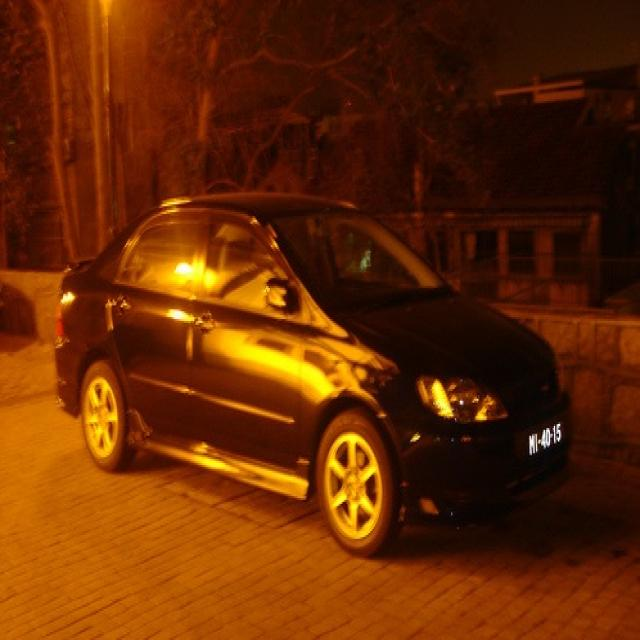Car: (53, 196, 573, 558)
